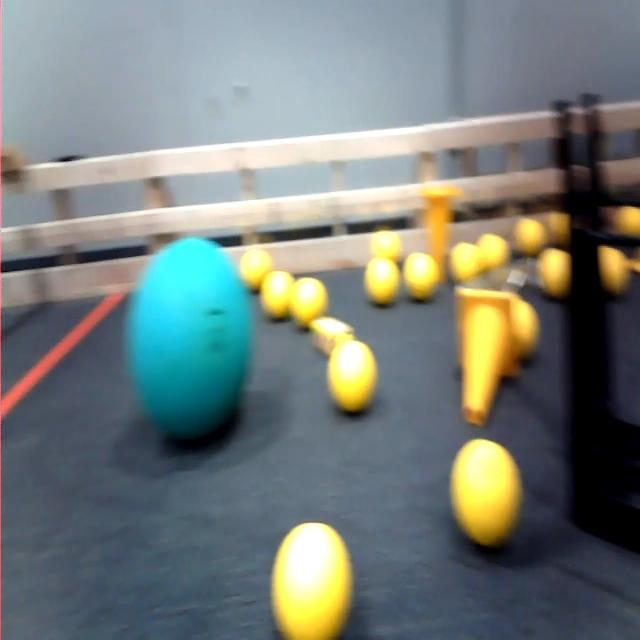fuel: (264, 510, 366, 640), (434, 425, 520, 555), (319, 332, 381, 416), (361, 254, 403, 324), (591, 239, 636, 302), (398, 250, 443, 310), (529, 238, 569, 304), (257, 270, 296, 330), (239, 234, 278, 293), (474, 218, 512, 278), (366, 220, 409, 273), (290, 273, 326, 331), (512, 210, 548, 263), (452, 239, 484, 281)
